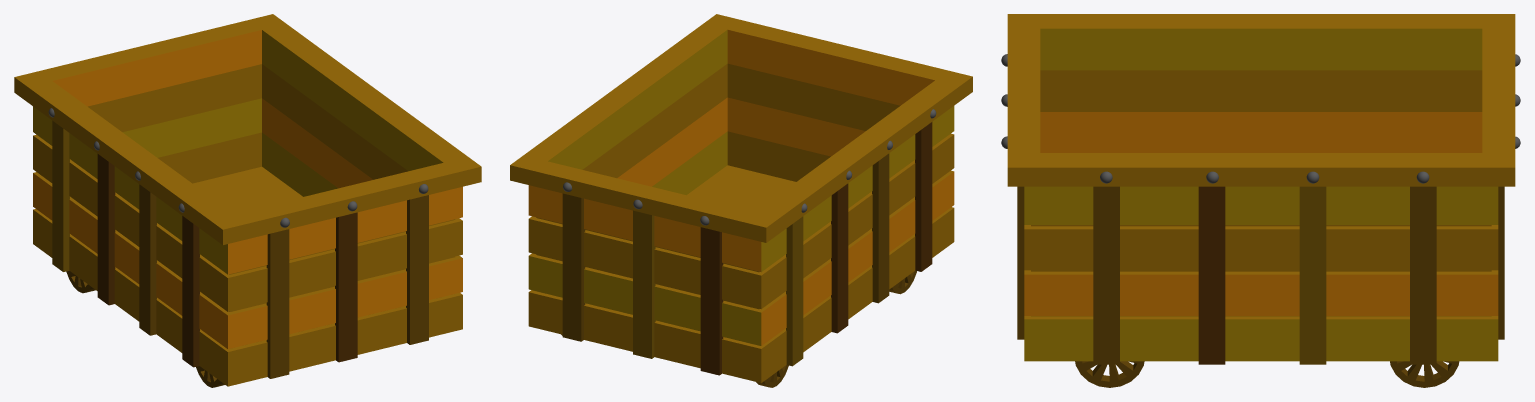
The model's file is Dolly.fbx.
The picture shows the model from 3 angles, left to right: view 1: azimuth 30°, elevation 25°; view 2: azimuth 150°, elevation 25°; view 3: azimuth 270°, elevation 25°; orthographic projection. The views are drawn at different scales.
Parts seen in each view (by area): view 1: pCube3, pCube6, pCube4, pCube5, pCube13, pCube10, pCube11, pCube12; view 2: pCube3, pCube7, pCube9, pCube8, pCube10, pCube13, pCube11, pCube12; view 3: pCube3, pCube15, pCube16, pCube14, pCube17, pCylinder3, pCylinder6, pCube5, pCube9.
Part boxes in pixels (x1,y1,x2,y2): pCube3: [14, 14, 481, 386]; pCube6: [266, 229, 289, 378]; pCube4: [335, 212, 357, 362]; pCube5: [406, 195, 428, 344]; pCube13: [97, 154, 115, 305]; pCube10: [52, 120, 69, 271]; pCube11: [182, 216, 199, 367]; pCube12: [139, 184, 156, 335]; pCube3: [510, 14, 972, 382]; pCube7: [700, 227, 723, 375]; pCube9: [562, 193, 585, 341]; pCube8: [633, 210, 655, 358]; pCube10: [786, 216, 803, 366]; pCube13: [831, 183, 848, 333]; pCube11: [915, 122, 932, 271]; pCube12: [872, 153, 889, 303]; pCube3: [1007, 14, 1515, 361]; pCube15: [1198, 186, 1225, 364]; pCube16: [1299, 186, 1326, 364]; pCube14: [1093, 186, 1119, 364]; pCube17: [1410, 186, 1436, 364]; pCylinder3: [1075, 361, 1144, 387]; pCylinder6: [1390, 361, 1459, 387]; pCube5: [1017, 186, 1024, 339]; pCube9: [1498, 186, 1504, 339].
Bounding box in the file's own units: 4.18 × 2.9 × 5.8.
